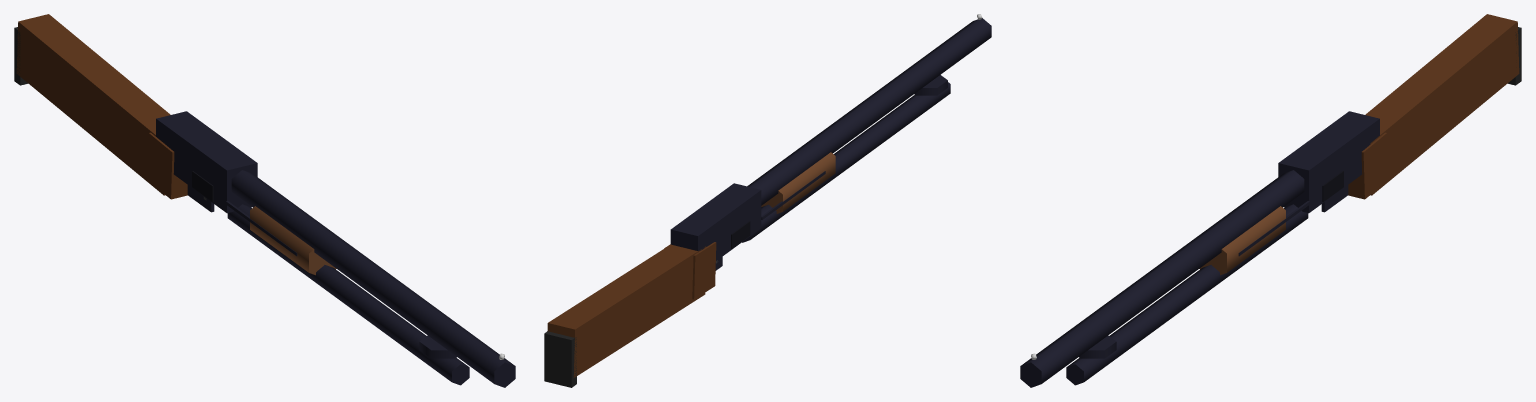
The model's file is ithaca37.glb.
The picture shows the model from 3 angles, left to right: view 1: azimuth 30°, elevation 25°; view 2: azimuth 150°, elevation 25°; view 3: azimuth 330°, elevation 25°; orthographic projection. The views are drawn at different scales.
Parts seen in each view (by area): view 1: Mesh_Stock, Mesh_Barrel, Mesh_Receiver, Mesh_MagazineTube, Mesh_PumpGrip, Mesh_GripSwell, Mesh_BarrelBand; view 2: Mesh_Stock, Mesh_Barrel, Mesh_Receiver, Mesh_MagazineTube, Mesh_Buttpad, Mesh_PumpGrip, Mesh_GripSwell, Mesh_BarrelBand; view 3: Mesh_Stock, Mesh_Barrel, Mesh_Receiver, Mesh_MagazineTube, Mesh_PumpGrip, Mesh_GripSwell, Mesh_BarrelBand.
Part boxes in pixels (x1,y1,x2,y2): Mesh_Stock: [16, 14, 170, 195]; Mesh_Barrel: [231, 170, 515, 387]; Mesh_Receiver: [156, 111, 257, 213]; Mesh_MagazineTube: [227, 204, 469, 385]; Mesh_PumpGrip: [250, 206, 336, 275]; Mesh_GripSwell: [147, 132, 187, 199]; Mesh_BarrelBand: [419, 335, 456, 358]; Mesh_Stock: [547, 244, 706, 377]; Mesh_Barrel: [747, 18, 991, 205]; Mesh_Receiver: [670, 183, 761, 260]; Mesh_MagazineTube: [742, 82, 950, 242]; Mesh_Buttpad: [544, 331, 576, 387]; Mesh_PumpGrip: [761, 152, 835, 213]; Mesh_GripSwell: [664, 242, 716, 299]; Mesh_BarrelBand: [914, 75, 947, 95]; Mesh_Stock: [1365, 14, 1519, 195]; Mesh_Barrel: [1020, 170, 1304, 387]; Mesh_Receiver: [1278, 111, 1379, 213]; Mesh_MagazineTube: [1066, 204, 1308, 385]; Mesh_PumpGrip: [1199, 206, 1285, 275]; Mesh_GripSwell: [1348, 132, 1388, 199]; Mesh_BarrelBand: [1079, 335, 1116, 358].
Size of the model in its own units: 0.0346 by 0.0695 by 0.805.
